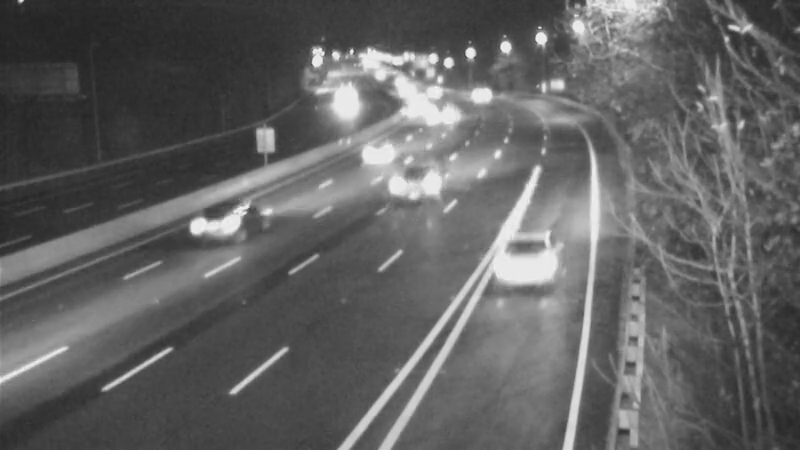vehicle: (331, 117, 411, 197), (380, 149, 460, 229), (182, 182, 262, 262), (488, 236, 568, 316), (457, 70, 507, 120), (405, 64, 455, 114), (384, 68, 434, 118), (393, 79, 443, 129), (390, 84, 440, 134), (423, 92, 473, 142), (316, 74, 366, 124)
